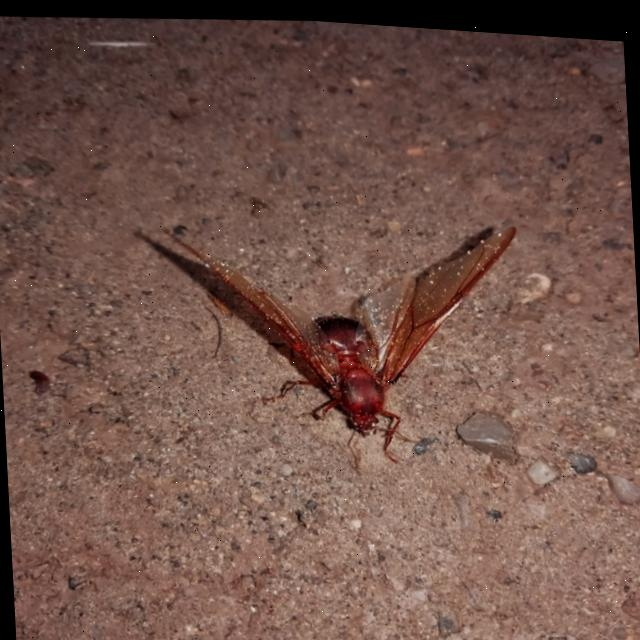Alive-Male-Alate: (163, 200, 529, 483)
